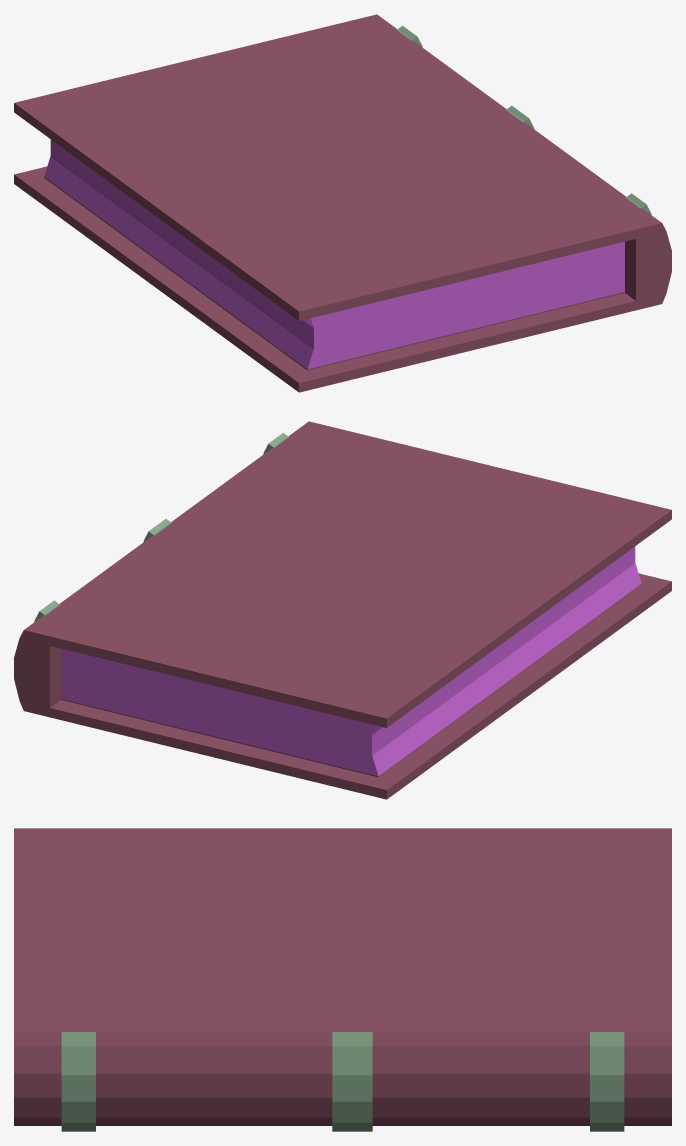
The model's file is Livro_low.fbx.
3 renders of one model, top to bottom at view 1: azimuth 30°, elevation 25°; view 2: azimuth 150°, elevation 25°; view 3: azimuth 270°, elevation 25°, orthographic. The views are drawn at different scales.
Visible parts, largest first — view 1: Livro_low; view 2: Livro_low; view 3: Livro_low.
Boxes of the visible parts, x1,y1,x2,y2 form: Livro_low: (14,14,671,392); Livro_low: (14,421,671,799); Livro_low: (14,828,671,1131).
Size of the model in its own units: 0.4116 by 0.0895 by 0.5374.
